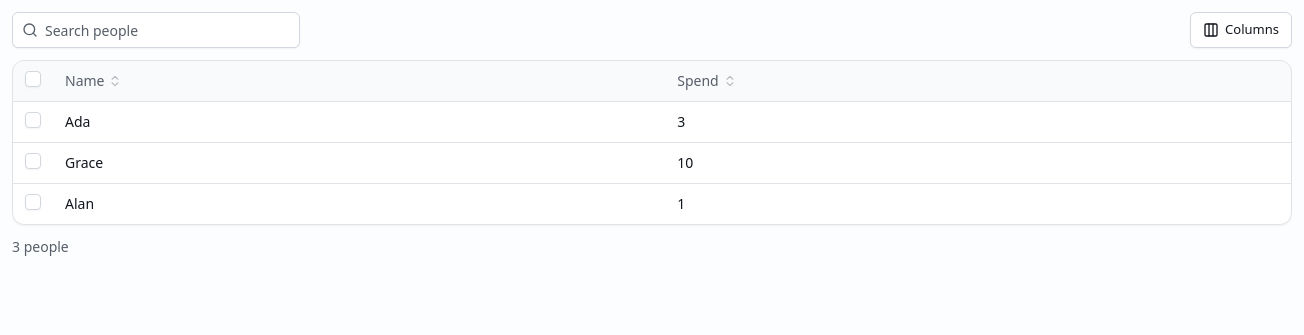
it: data table › searches, sorts, and offers bulk actions for the selection
Click the button with aria-label "Spend, sort ascending".
click(707, 81)  # box [669,65,745,97]
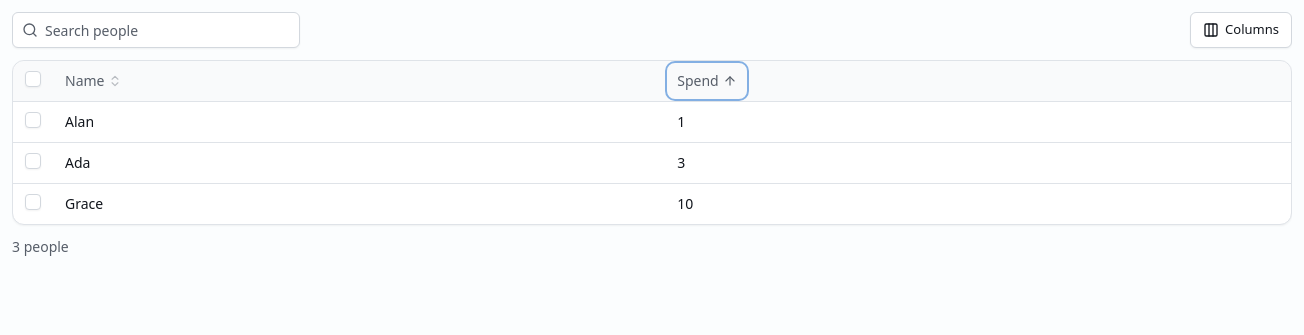
Check: the column heading "Spend" has attribute aria-sort="ascending", box [665,61,1291,101]
Type "gr" into the search field labelled "Search people".
click(156, 30); type("gr")  # box [12,12,300,48]
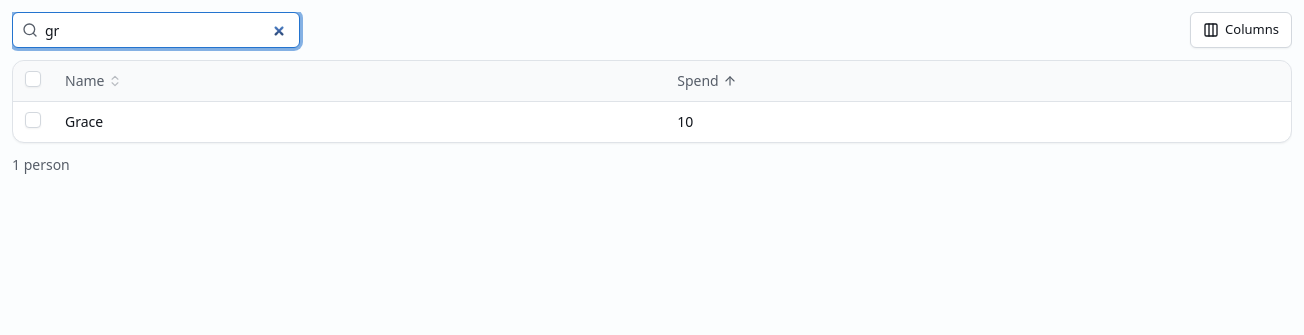
Replace the text in the search field named "Search people" with "zzz" at x=156, y=30, box [12,12,300,48]
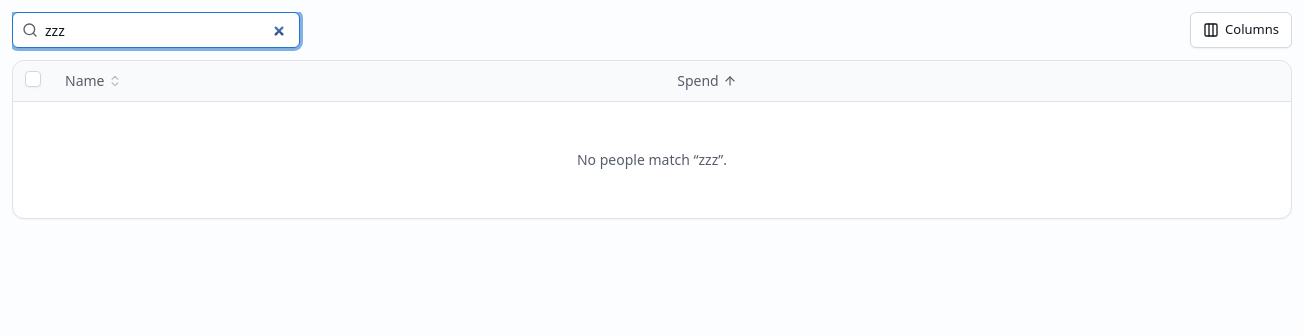
Check: the text "No people match “zzz”." is shown, box [13,102,1291,218]
Clear the search field named "Search people" at x=156, y=30, box [12,12,300,48]
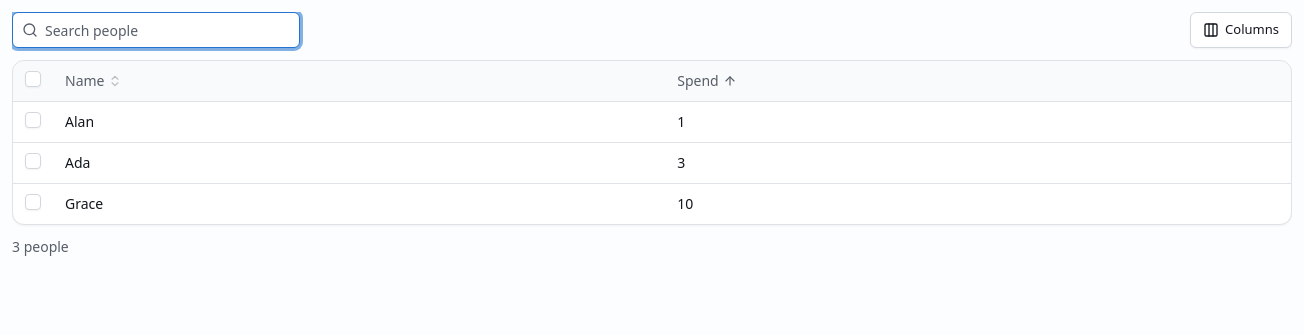
Click the checkbox named "Select row" next to "Alan".
click(33, 120)  # box [25,112,41,128]
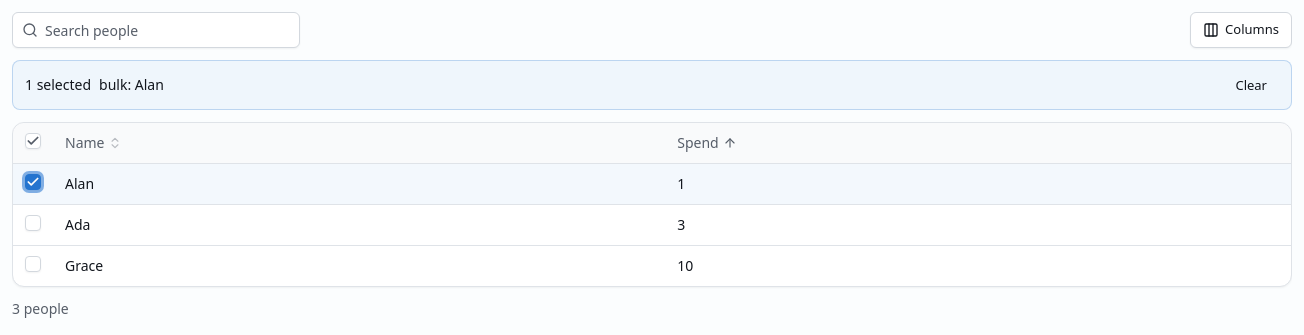
Click the checkbox named "Select row" next to "Ada".
click(33, 222)  # box [25,214,41,230]
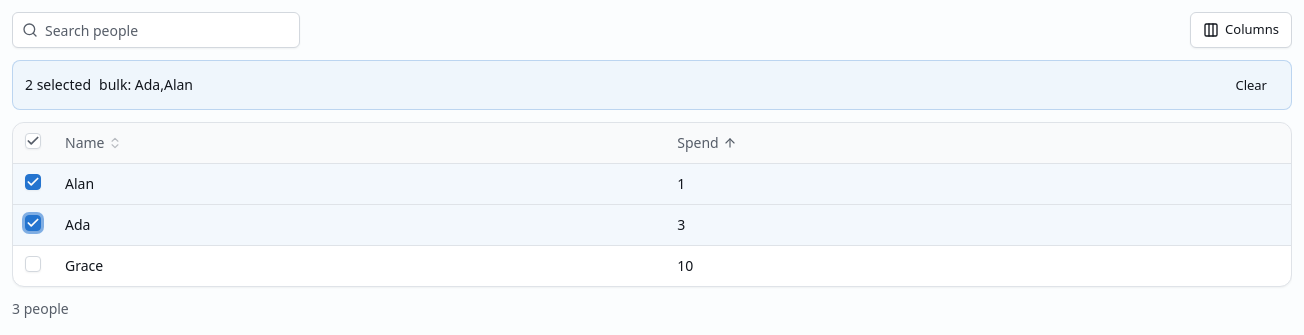
Check: the element named "Bulk actions" shows "2 selected", box [12,60,1292,110]
Check: the text "bulk: Ada,Alan" is shown, box [99,75,193,95]
